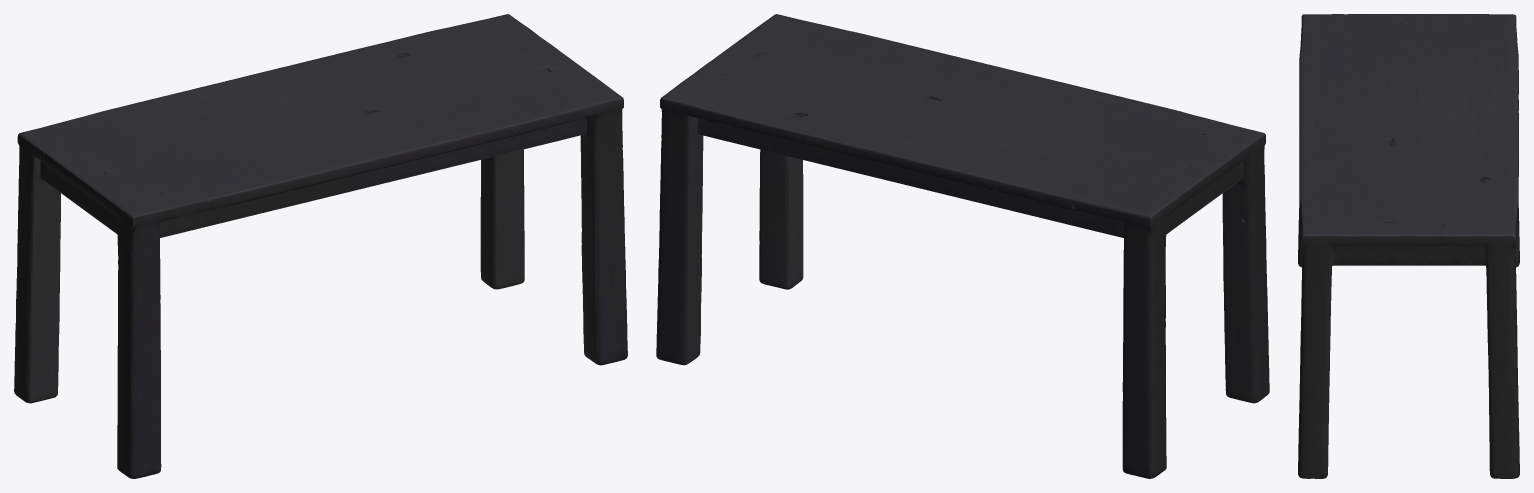
The model's file is L_DINING.cyberpunk.glb.
The picture shows the model from 3 angles, left to right: view 1: azimuth 30°, elevation 25°; view 2: azimuth 150°, elevation 25°; view 3: azimuth 270°, elevation 25°; orthographic projection. The views are drawn at different scales.
Visible parts, largest first — view 1: geometry_0; view 2: geometry_0; view 3: geometry_0.
Boxes of the visible parts, bbox=[...] form: geometry_0: bbox=[14, 14, 627, 478]; geometry_0: bbox=[656, 14, 1269, 478]; geometry_0: bbox=[1298, 14, 1519, 478].
Size of the model in its own units: 1.8 by 0.9039 by 0.7475.
Materials: 1 (1 with a texture image).
